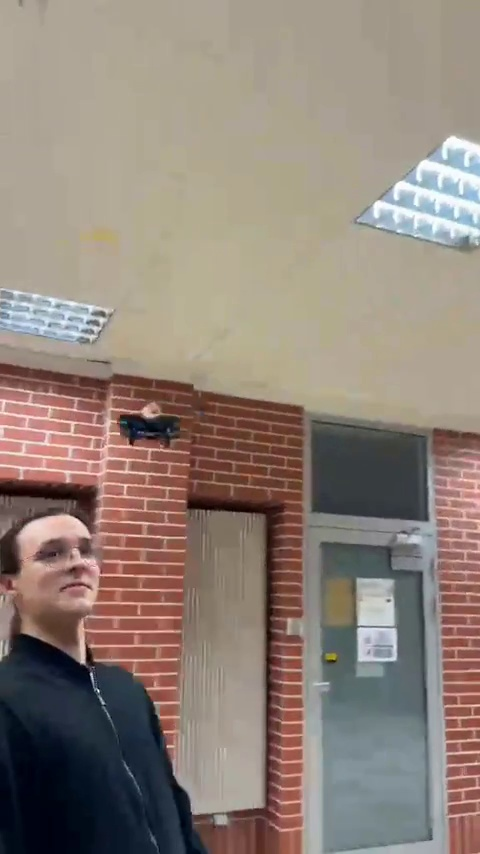drone: (114, 411, 186, 446)
no vest: (0, 514, 210, 852)
